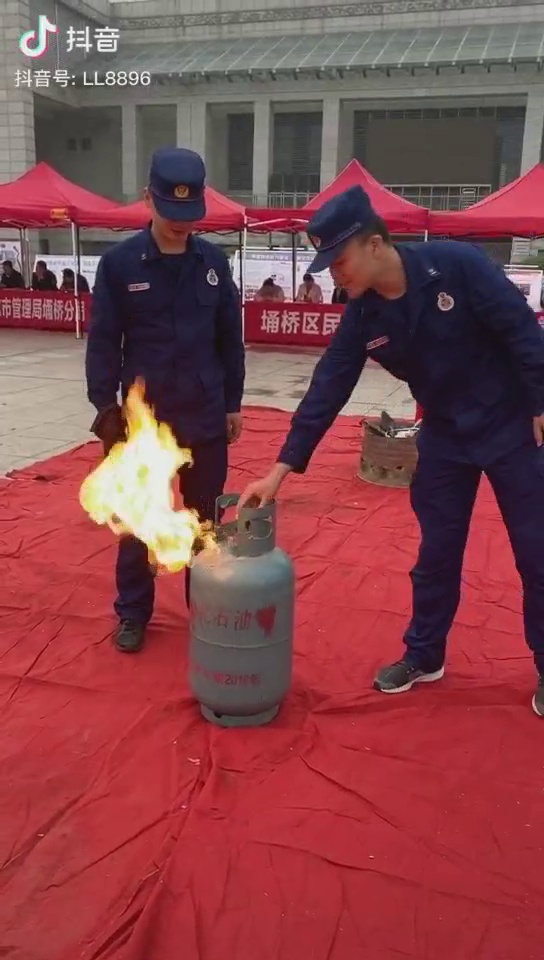fire: (75, 396, 202, 571)
